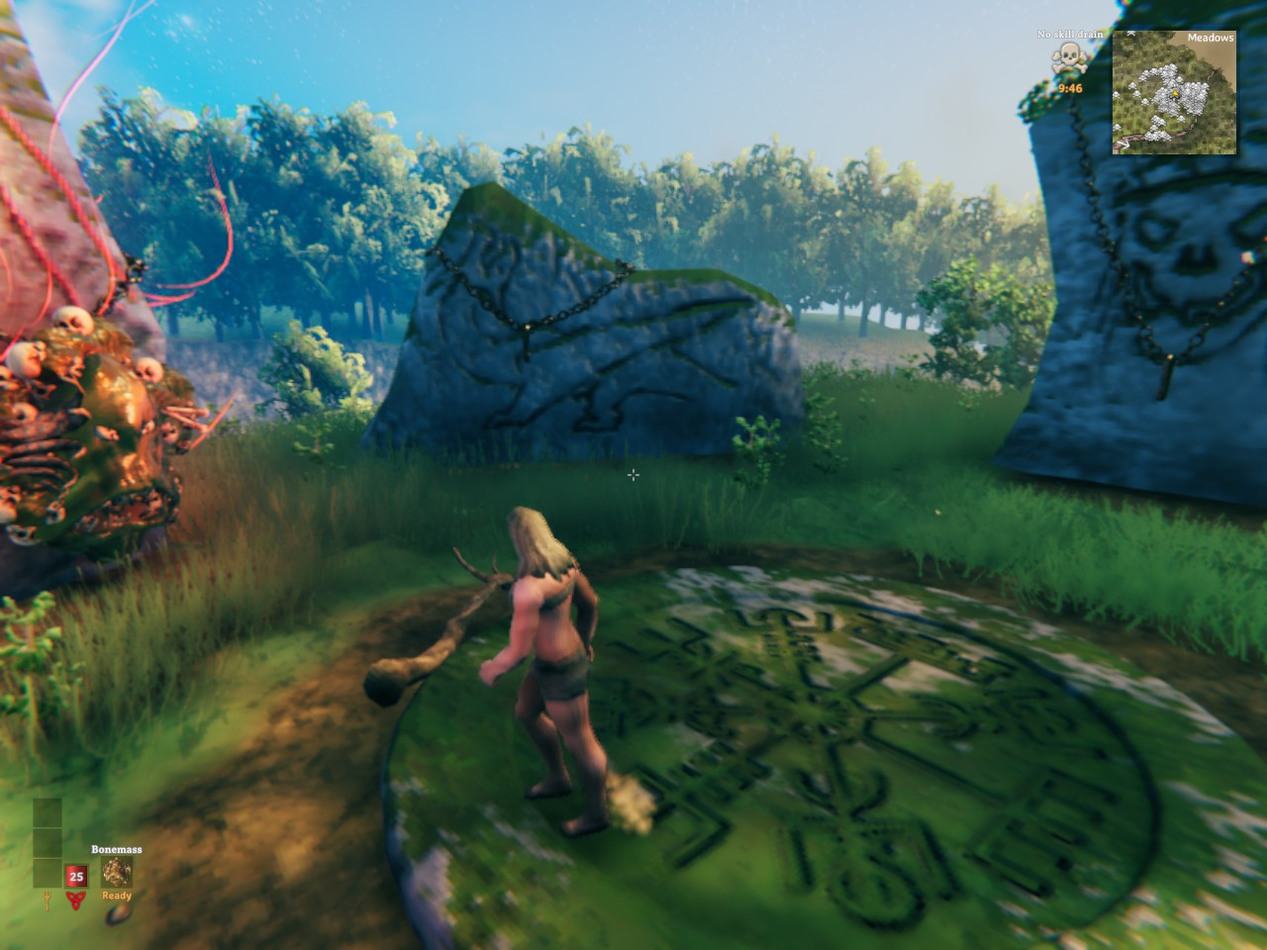Branch: (363, 547, 512, 706)
Spawn Point: (381, 563, 1266, 949)
